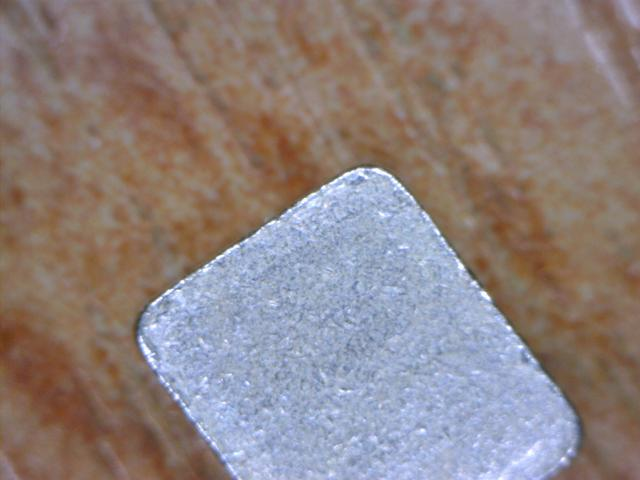ok: (132, 158, 596, 477)
